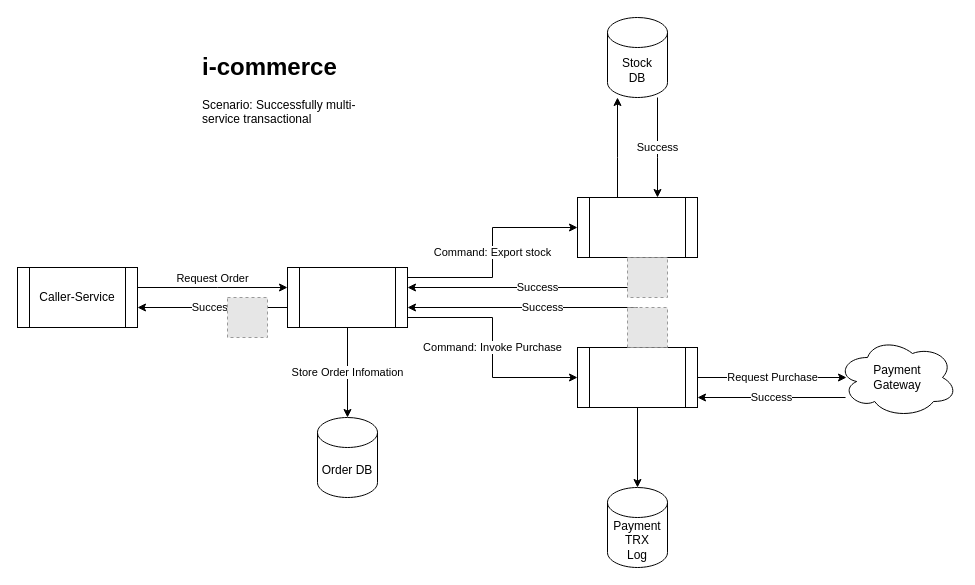
The diagram is 975 pixels wide and 585 high, and some of its shapes have lost their labels. Grey dashed boxes stand in for pictures. The shapes that lost their labels are listed below. From the top down, each one's centre as x and y in pixels, then its label:
pixel 637 227: Stock-Manager
pixel 347 297: Order Manager (Orchestrator)
pixel 637 377: Payment-Manager
